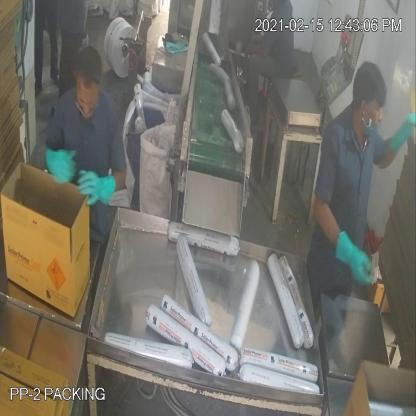glove: (330, 218, 376, 290), (78, 158, 119, 214), (387, 105, 416, 161)
no_glove: (49, 136, 81, 188), (243, 31, 275, 67)
